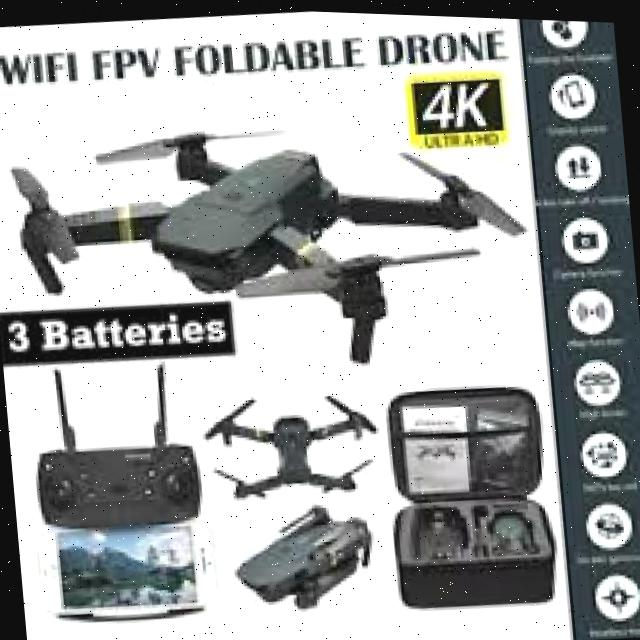drone: (0, 80, 541, 402), (204, 379, 383, 515)
